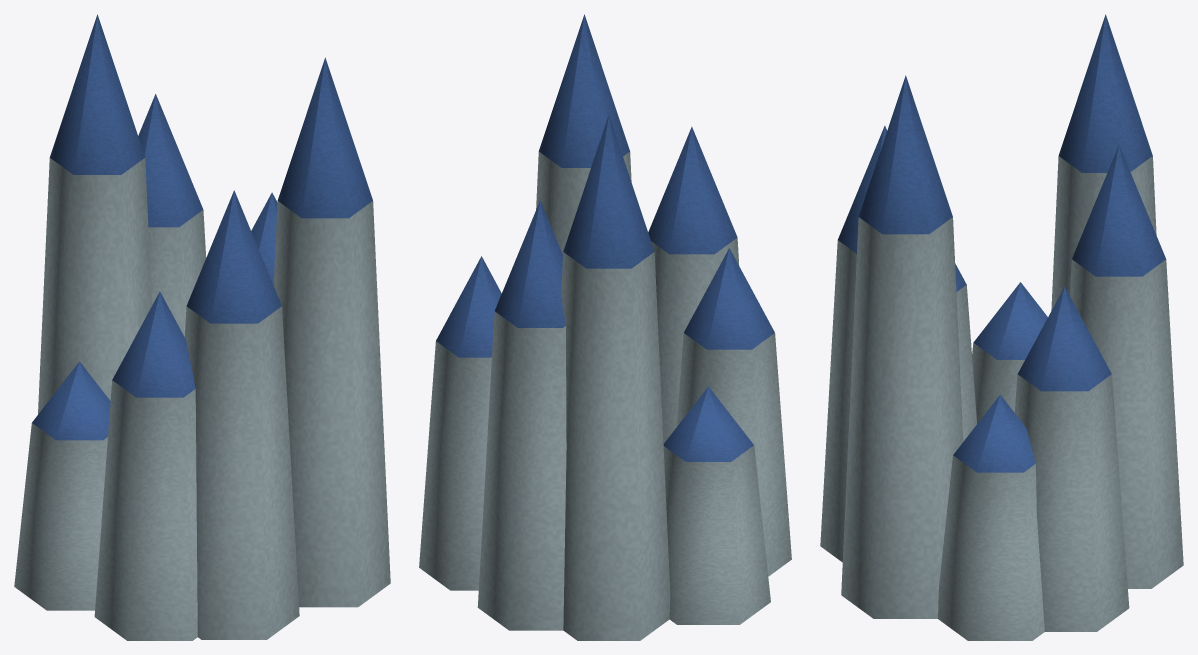
File: crystal.glb
The picture shows the model from 3 angles, left to right: view 1: azimuth 30°, elevation 25°; view 2: azimuth 150°, elevation 25°; view 3: azimuth 270°, elevation 25°; orthographic projection. The views are drawn at different scales.
Visible parts, largest first — view 1: static_ornament; view 2: static_ornament; view 3: static_ornament.
Part boxes in pixels (<box>): static_ornament: <box>14,14,390,640</box>; static_ornament: <box>419,14,791,640</box>; static_ornament: <box>820,14,1183,640</box>.
Size of the model in its own units: 0.7612 by 1.15 by 0.7312.
Materials: 1 (1 with a texture image).
